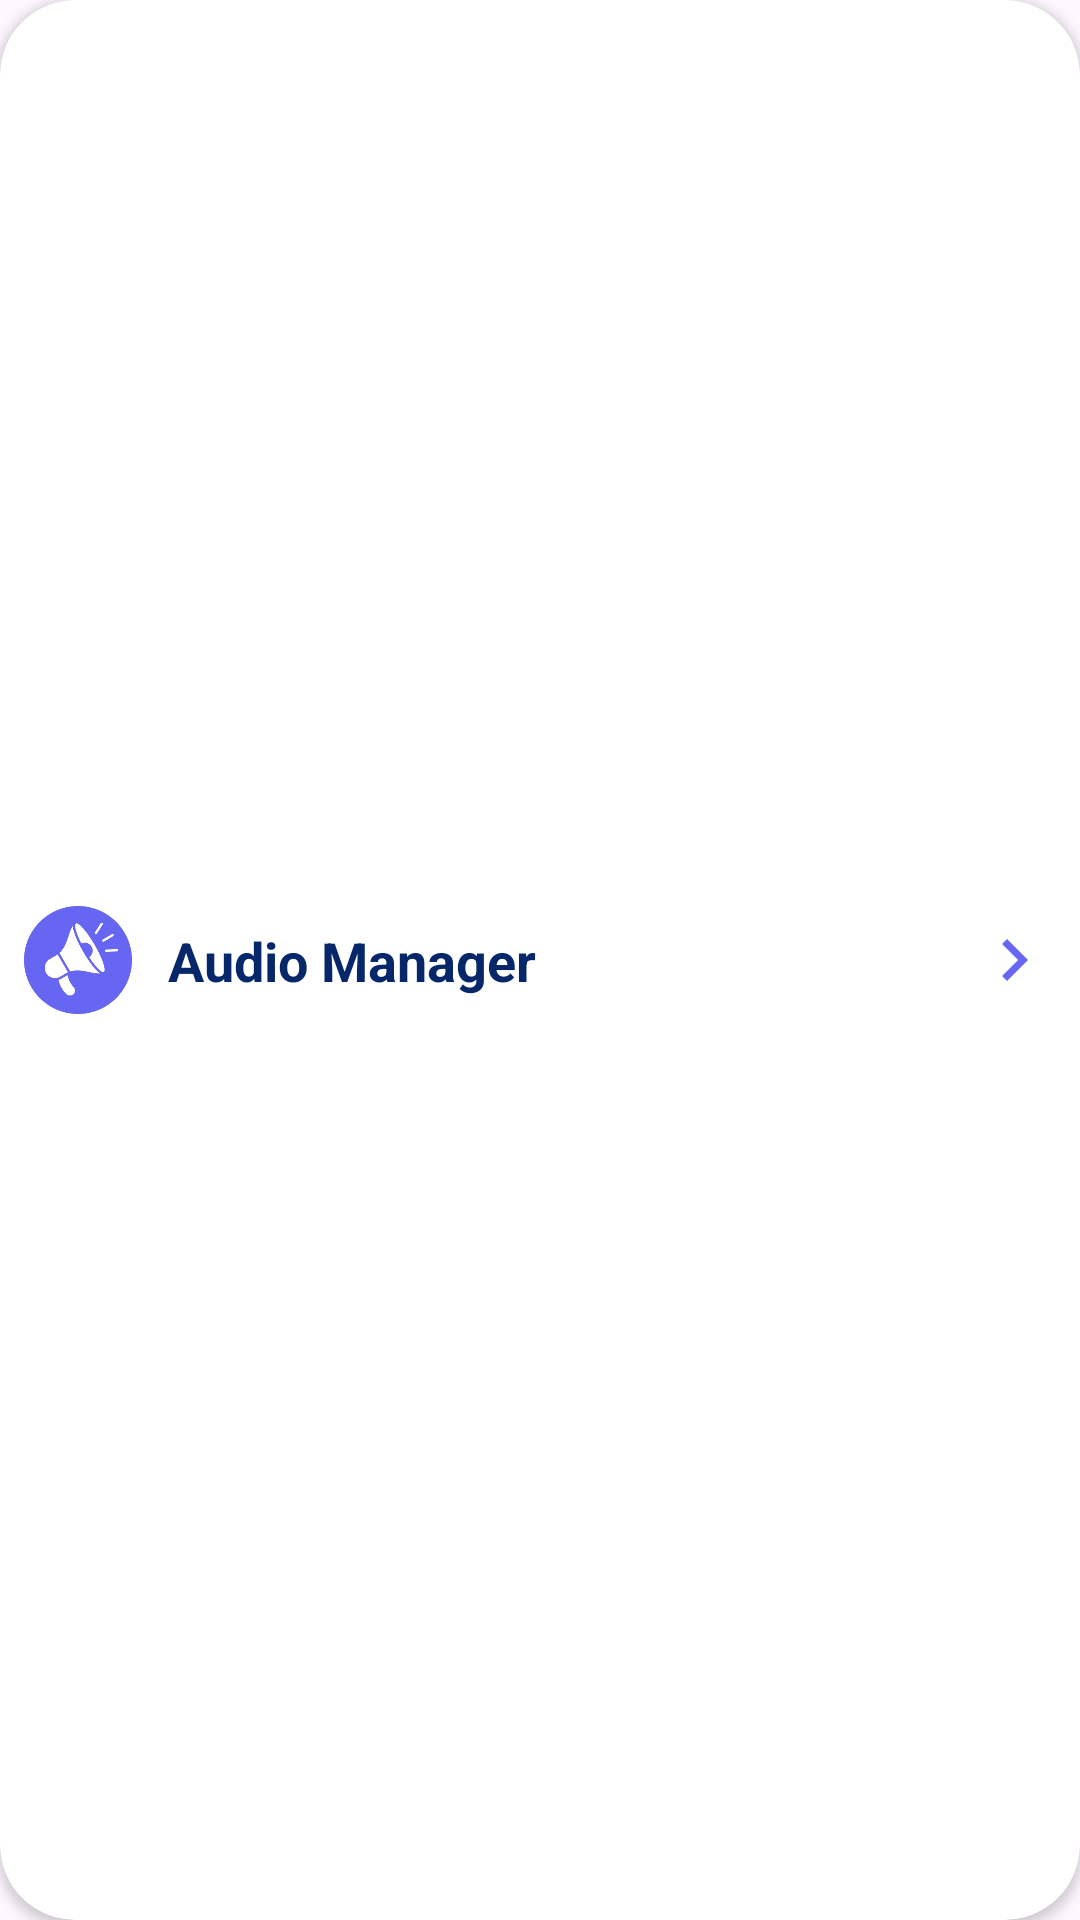

Screen size 1080x1920. Icon name, then its box in pixels as (x1, y1, x2, y2):
arrow right: (1002, 939, 1028, 981)
